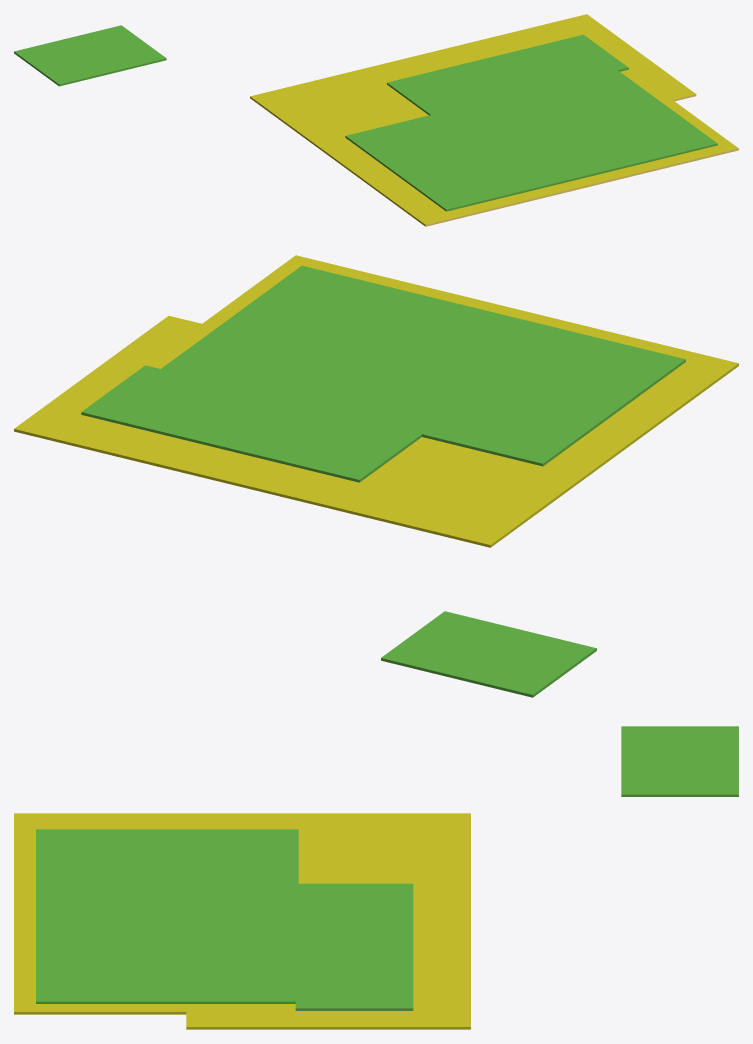
Rendered from island.gltf.
The picture shows the model from 3 angles, top to bottom: view 1: azimuth 30°, elevation 25°; view 2: azimuth 150°, elevation 25°; view 3: azimuth 270°, elevation 25°; orthographic projection. The views are drawn at different scales.
Visible parts, largest first — view 1: islanda (×3), sand (×2); view 2: islanda (×3), sand (×2); view 3: islanda (×3), sand (×2).
Part boxes in pixels (x1,y1,x2,y2): islanda (×3): (14, 25, 717, 211); sand (×2): (250, 14, 738, 226); islanda (×3): (81, 265, 685, 697); sand (×2): (14, 255, 738, 547); islanda (×3): (36, 726, 738, 1010); sand (×2): (14, 813, 470, 1029).
Size of the model in its own units: 16.12 by 0.125 by 16.56.
2 materials, 2 textured.
